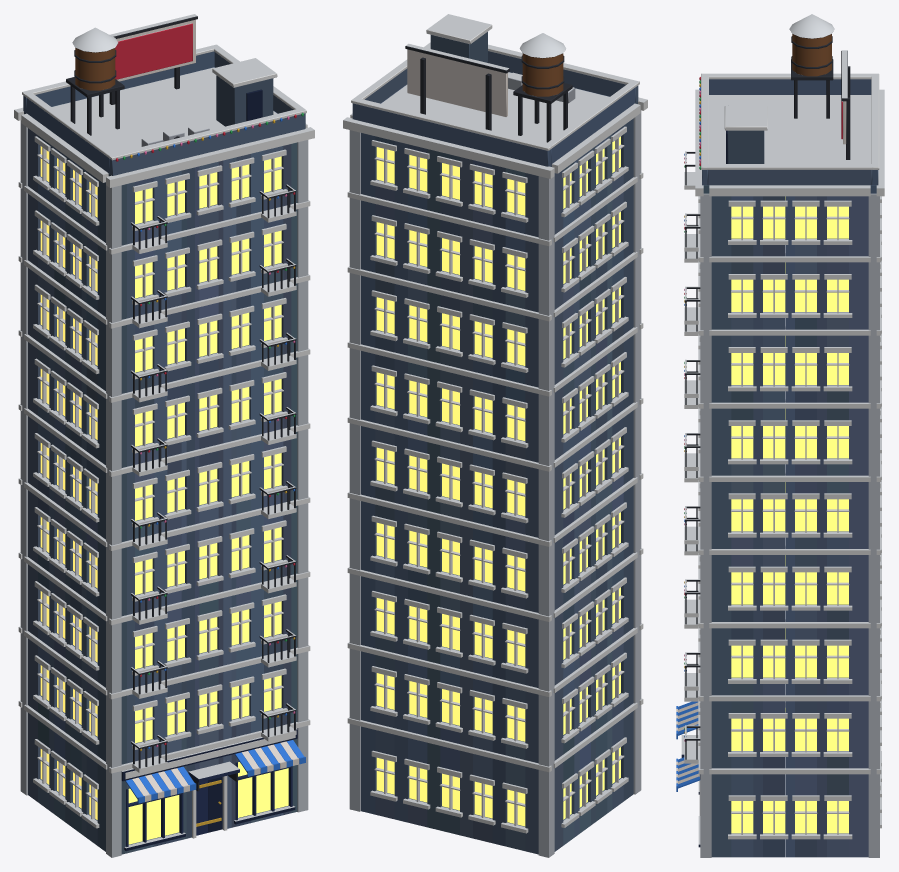
The model's file is Apartment_Tower.glb.
The picture shows the model from 3 angles, left to right: view 1: azimuth 30°, elevation 25°; view 2: azimuth 150°, elevation 25°; view 3: azimuth 270°, elevation 25°; orthographic projection. The views are drawn at different scales.
Parts seen in each view (by area): view 1: Apartment_Tower_Walls, Apartment_Tower_Trim, Apartment_Tower_Glow, Apartment_Tower_Roof, Apartment_Tower_Balconies, Apartment_Tower_Shopfront, Apartment_Tower_Lights; view 2: Apartment_Tower_Walls, Apartment_Tower_Trim, Apartment_Tower_Glow, Apartment_Tower_Roof; view 3: Apartment_Tower_Walls, Apartment_Tower_Trim, Apartment_Tower_Glow, Apartment_Tower_Roof, Apartment_Tower_Balconies, Apartment_Tower_Shopfront.
Boxes of the visible parts, bbox=[...] form: Apartment_Tower_Walls: bbox=[24, 67, 297, 854]; Apartment_Tower_Trim: bbox=[14, 107, 314, 857]; Apartment_Tower_Glow: bbox=[40, 146, 288, 844]; Apartment_Tower_Roof: bbox=[22, 14, 306, 175]; Apartment_Tower_Balconies: bbox=[131, 184, 296, 772]; Apartment_Tower_Shopfront: bbox=[121, 728, 305, 838]; Apartment_Tower_Lights: bbox=[115, 112, 303, 750]; Apartment_Tower_Walls: bbox=[361, 72, 637, 854]; Apartment_Tower_Trim: bbox=[343, 97, 647, 857]; Apartment_Tower_Glow: bbox=[376, 136, 620, 826]; Apartment_Tower_Roof: bbox=[351, 14, 639, 166]; Apartment_Tower_Walls: bbox=[703, 185, 876, 857]; Apartment_Tower_Trim: bbox=[695, 89, 884, 857]; Apartment_Tower_Glow: bbox=[731, 196, 848, 833]; Apartment_Tower_Roof: bbox=[701, 14, 879, 185]; Apartment_Tower_Balconies: bbox=[684, 151, 700, 763]; Apartment_Tower_Shopfront: bbox=[676, 701, 700, 815].
Bounding box in the file's own units: 31.8 × 116 × 28.42.
